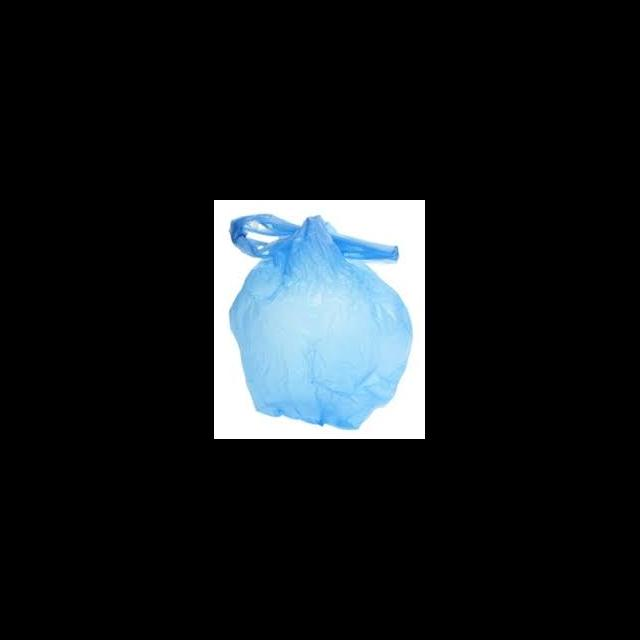plastic: (228, 213, 412, 430)
